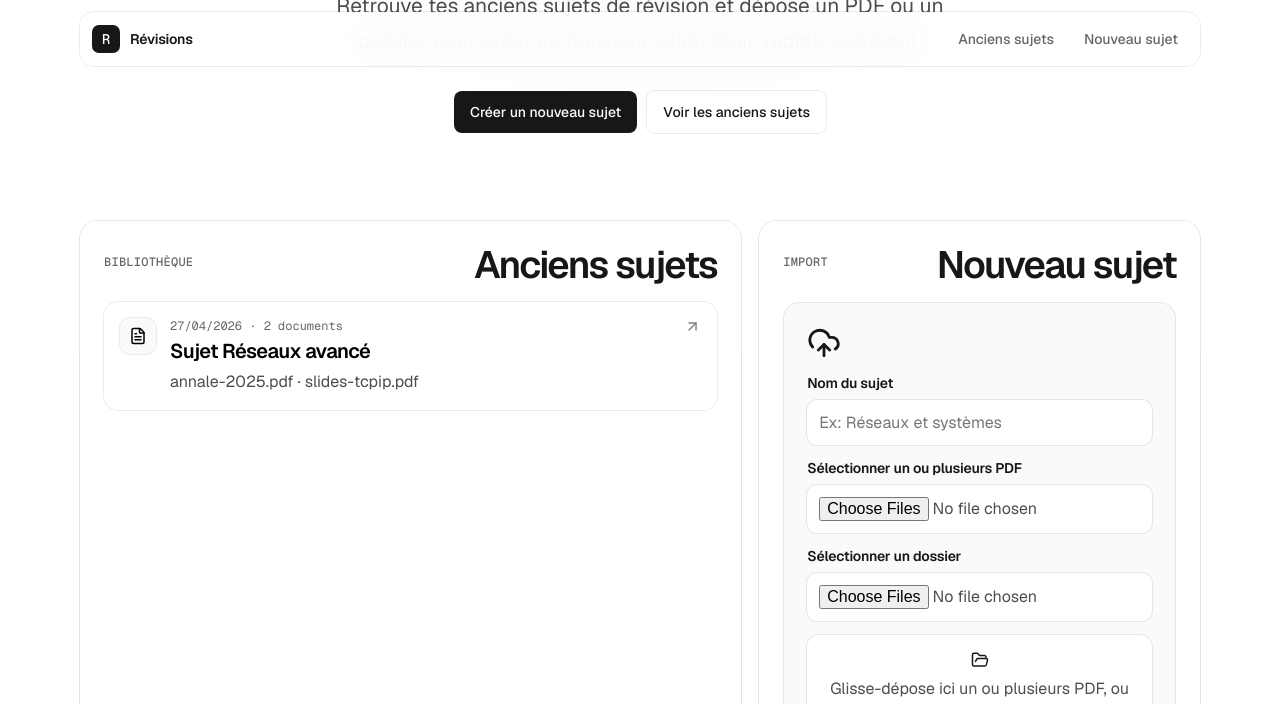
Test case: Revision platform - étape 2 data coherence › opens a floating detail window when clicking a previous subject with downloadable attachments
The width and height of the screenshot is (1280, 704).
(page scrolled)
Click the button with aria-label "ouvrir les détails de sujet réseaux avancé": (138, 336) [104, 302, 717, 410]
(page scrolled)
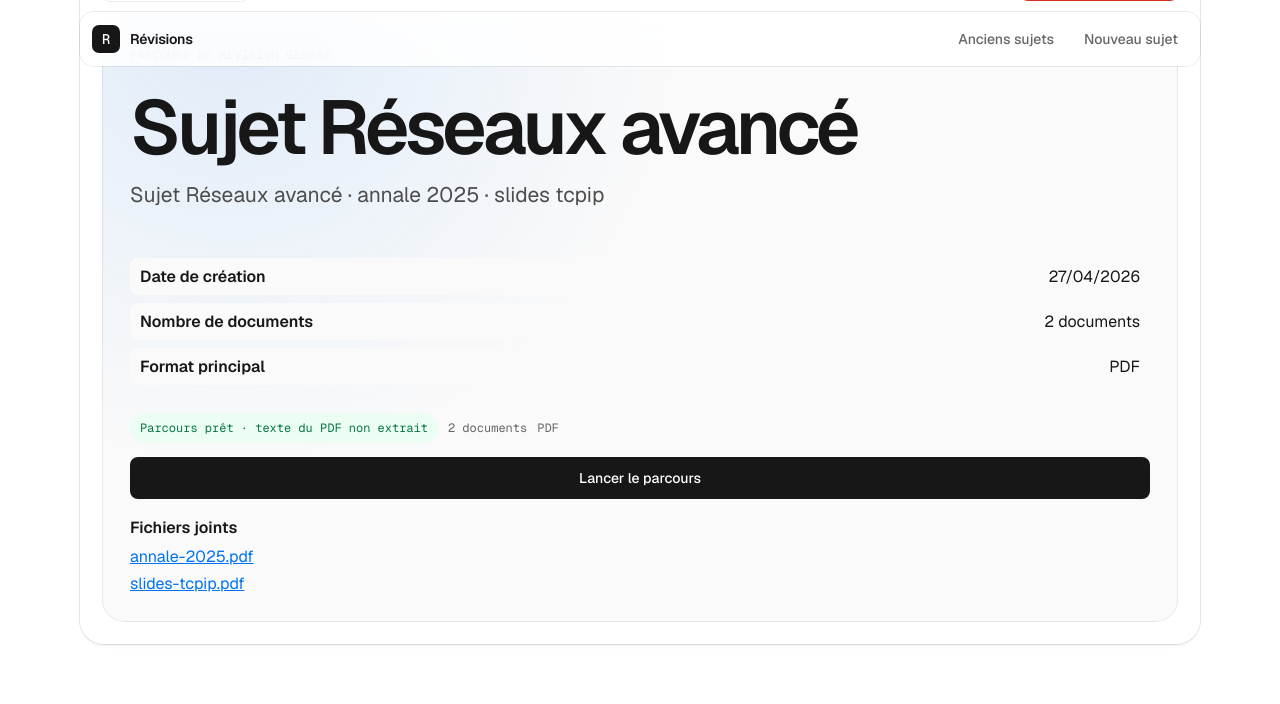
expect the dialog named "détails du sujet" is shown: met
expect the text "Fichiers joints" is shown: met, box [130, 517, 237, 538]
expect the text "Date de création" is shown: met, box [140, 266, 266, 287]
